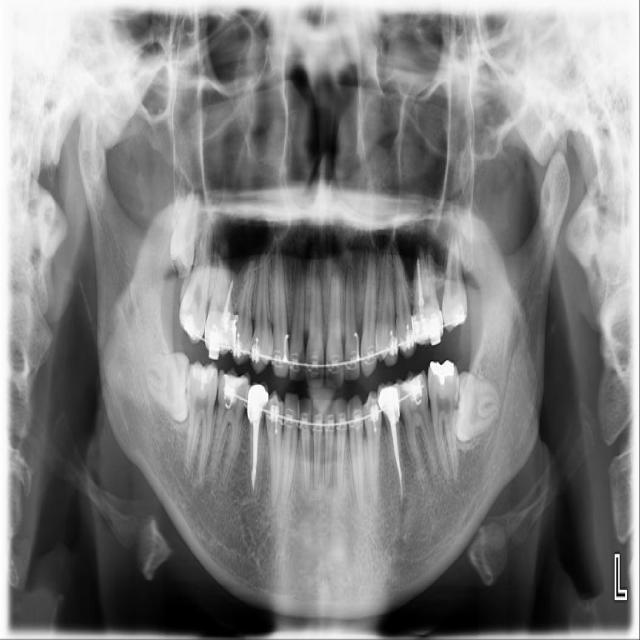3M ESPE Implant: (167, 187, 202, 280)
52: (213, 366, 252, 417), (393, 369, 432, 418), (186, 361, 218, 412), (178, 292, 208, 346), (427, 360, 460, 407), (377, 380, 401, 425), (246, 380, 269, 425)
73: (386, 419, 411, 511), (247, 418, 264, 498), (592, 526, 596, 534)
BioHorizons Implant: (440, 223, 470, 333)
Biomet 3i Implant: (450, 370, 504, 445)
Blue Sky Bio Implant: (427, 359, 460, 483)
Caries: (176, 214, 218, 345)
Implant: (184, 360, 219, 490)
Keystone Dental Implant: (144, 353, 191, 421)
